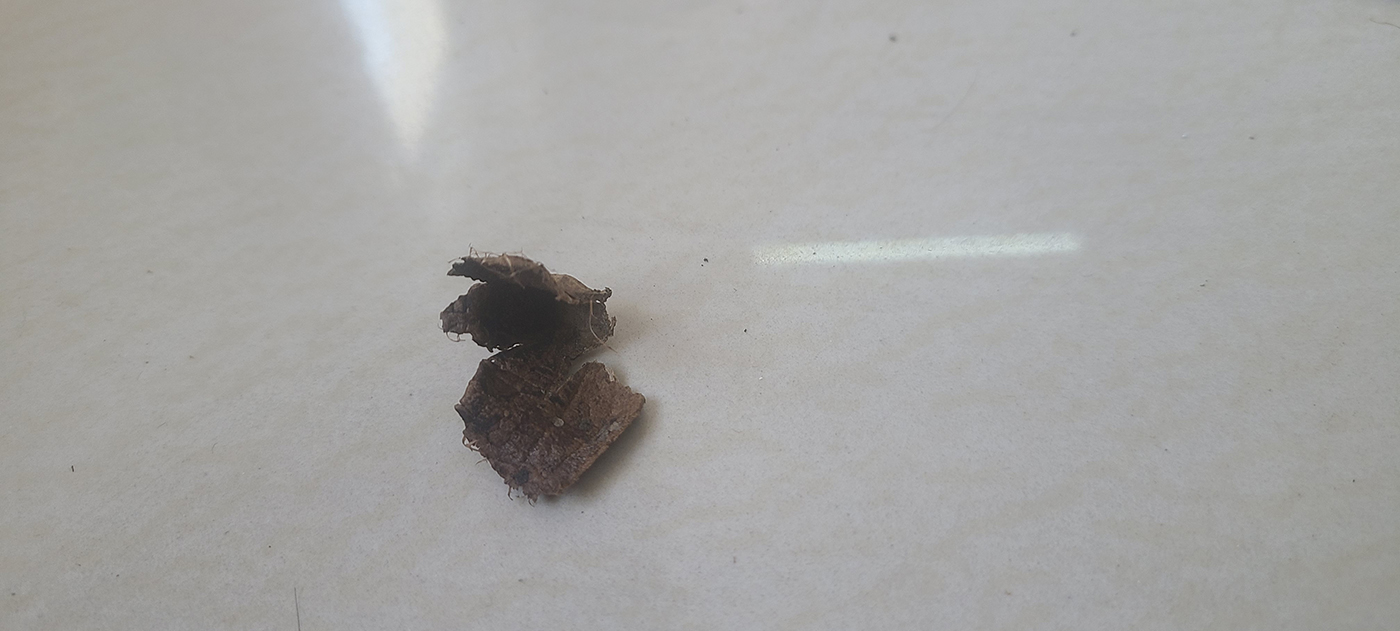l: (439, 253, 650, 497)
